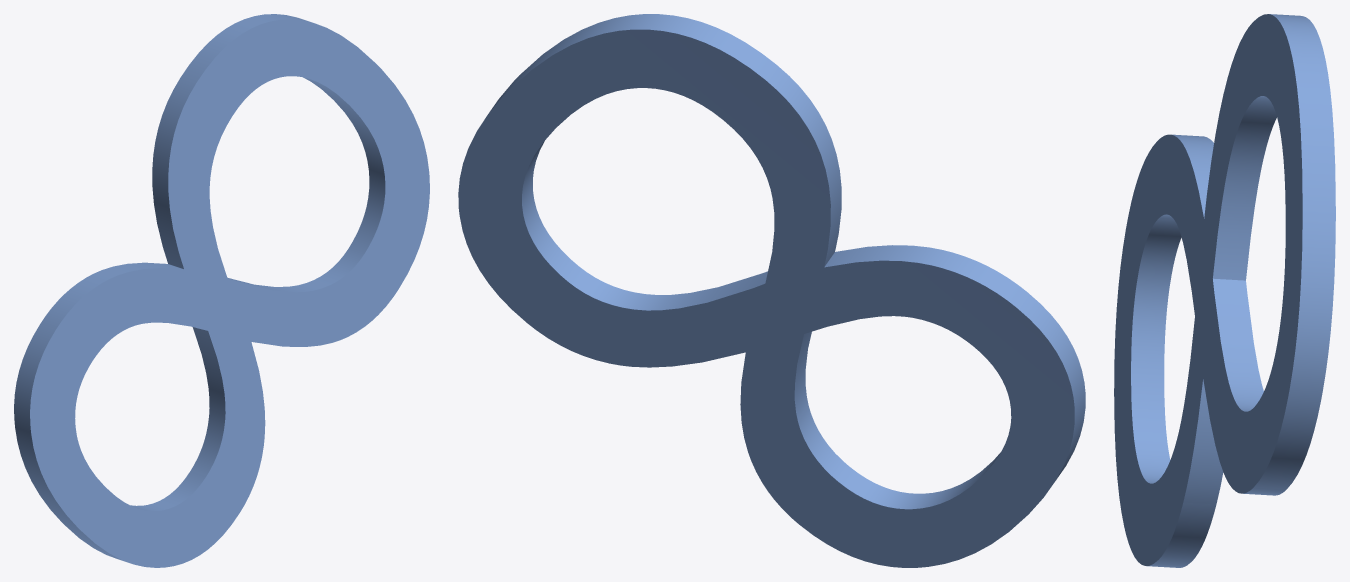
File: New_Number_8.gltf
The picture shows the model from 3 angles, left to right: view 1: azimuth 30°, elevation 25°; view 2: azimuth 150°, elevation 25°; view 3: azimuth 270°, elevation 25°; orthographic projection. The views are drawn at different scales.
Parts seen in each view (by area): view 1: Part 422; view 2: Part 422; view 3: Part 422.
Part boxes in pixels (x1,y1,x2,y2): Part 422: [14, 14, 429, 567]; Part 422: [458, 14, 1085, 567]; Part 422: [1114, 14, 1335, 567].
Bounding box in the file's own units: 0.00529 × 0.00509 × 0.00166.
